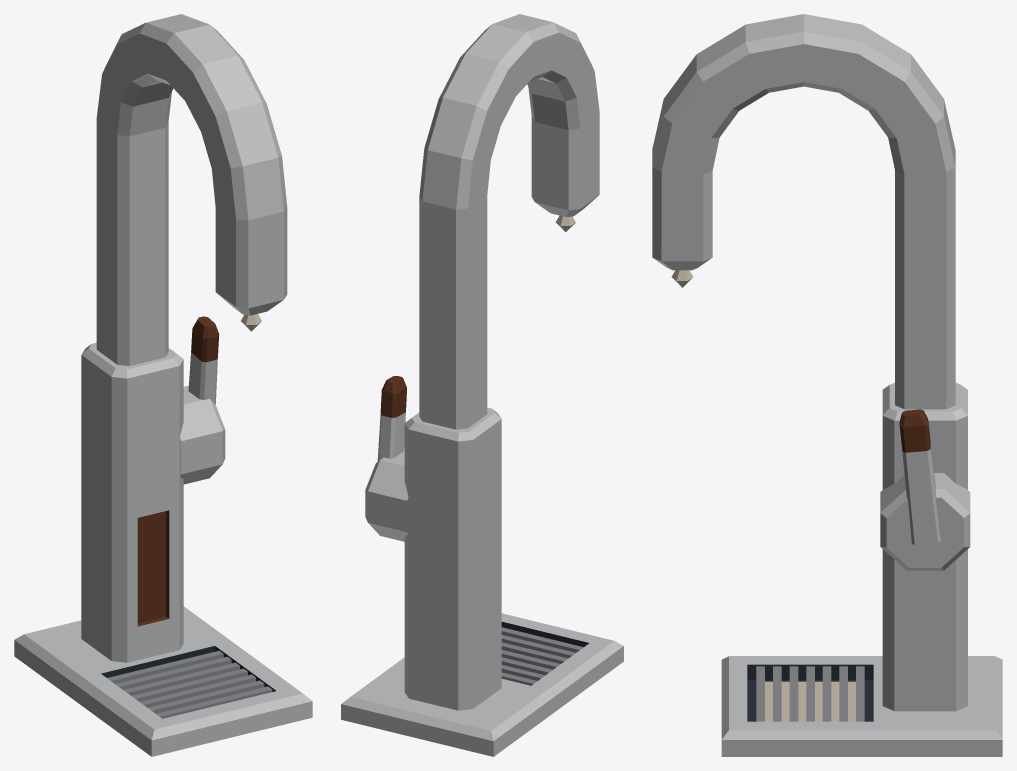
File: boiling-water-tap-e594db.glb
The picture shows the model from 3 angles, left to right: view 1: azimuth 30°, elevation 25°; view 2: azimuth 150°, elevation 25°; view 3: azimuth 270°, elevation 25°; orthographic projection. The views are drawn at different scales.
Visible parts, largest first — view 1: boiling-water-tap, handle; view 2: boiling-water-tap, handle; view 3: boiling-water-tap, handle.
Part boxes in pixels (x1=…): boiling-water-tap: x1=14, y1=14, x2=312, y2=756; handle: x1=188, y1=316, x2=219, y2=404; boiling-water-tap: x1=341, y1=14, x2=623, y2=756; handle: x1=377, y1=376, x2=406, y2=461; boiling-water-tap: x1=652, y1=14, x2=1002, y2=756; handle: x1=899, y1=409, x2=940, y2=544.
Bounding box in the file's own units: 0.103 × 0.4149 × 0.19.
